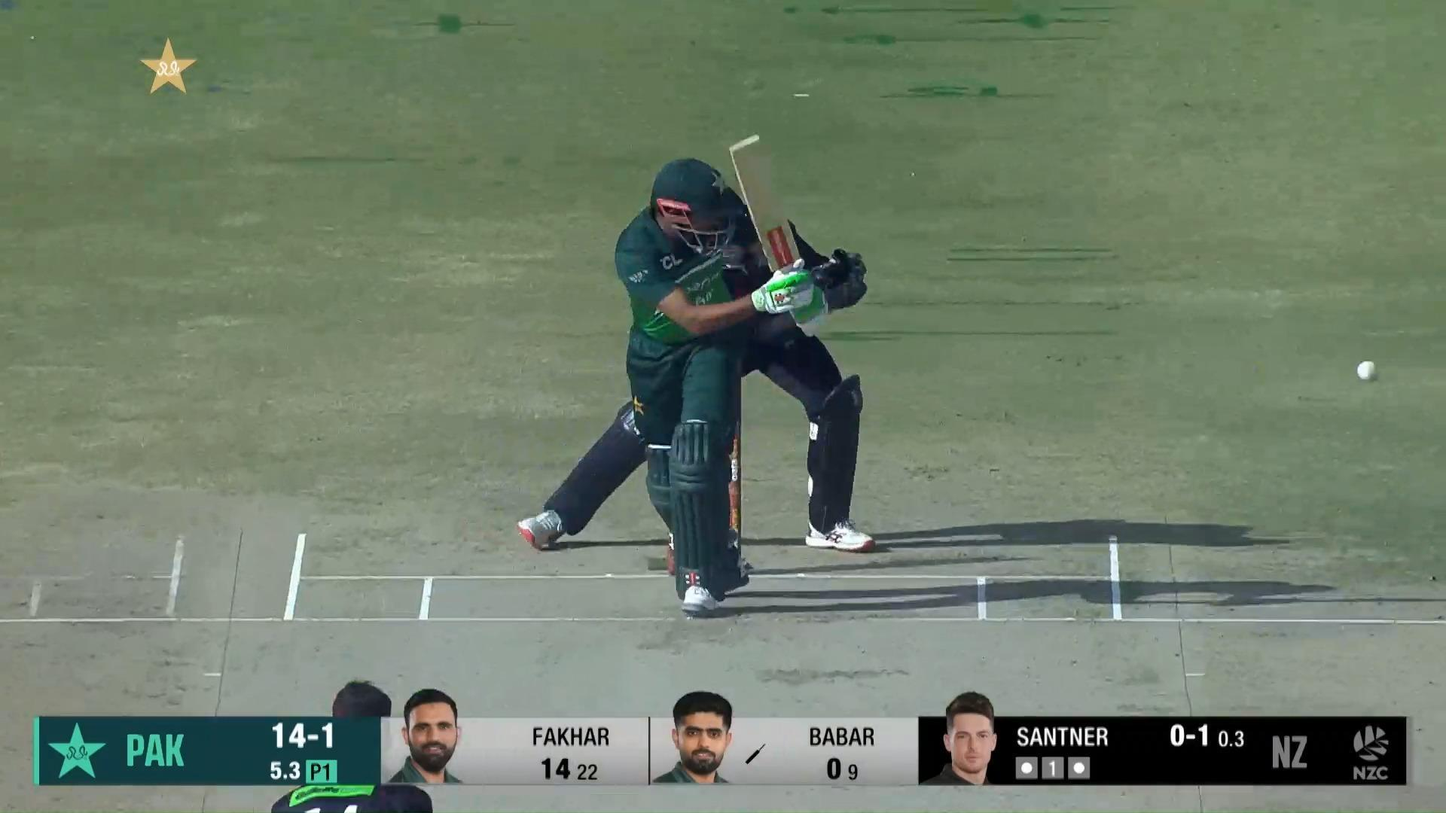BM 1: (615, 134, 828, 615)
BO: (271, 678, 434, 813)
